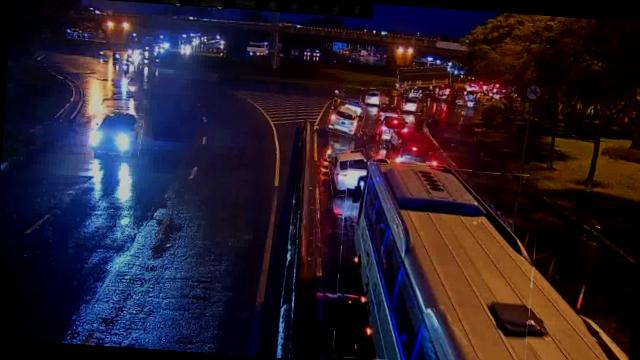Bus: (333, 161, 540, 360), (326, 99, 364, 136)
Car: (88, 107, 144, 156), (326, 148, 370, 197), (380, 114, 406, 136), (361, 87, 387, 106), (400, 94, 423, 114)
Truck: (397, 63, 452, 95)
